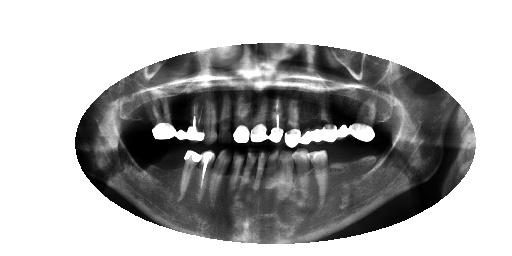i10healthy: (226, 146, 247, 213)
i11healthy: (208, 144, 232, 214)
i12healthy: (193, 147, 216, 218)
i13healthy: (175, 148, 204, 216)
i4decay: (306, 143, 332, 210)
i5decay: (288, 145, 314, 214)
i6healthy: (277, 144, 297, 212)
i7healthy: (263, 145, 280, 213)
i8healthy: (250, 143, 268, 215)
i9healthy: (235, 147, 258, 214)
u10decay: (216, 89, 236, 144)
u11decay: (199, 83, 218, 146)
u12healthy: (186, 93, 203, 145)
u13loss: (167, 93, 191, 144)
u14healthy: (142, 91, 182, 144)
u2healthy: (349, 94, 378, 148)
u3loss: (321, 94, 353, 147)
u4loss: (308, 93, 324, 149)
u5loss: (296, 96, 314, 152)
u6healthy: (283, 87, 303, 150)
u7chipped: (267, 86, 286, 150)
u8chipped: (249, 90, 272, 146)
u9healthy: (231, 91, 252, 149)
